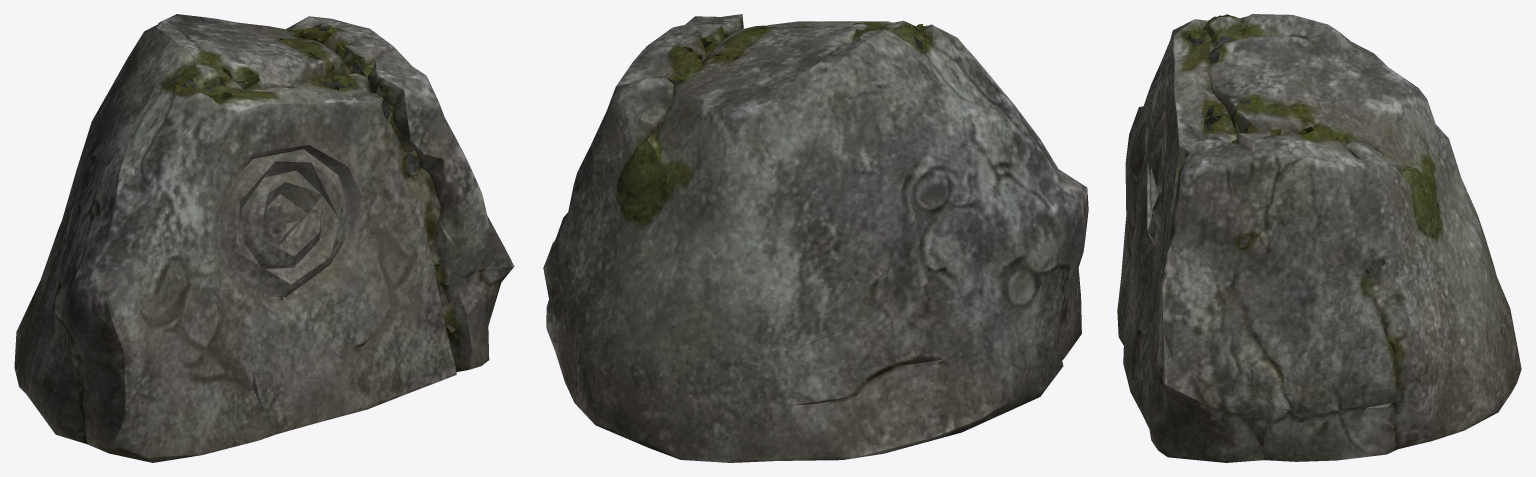
Rendered from stone-b.phone.glb.
3 renders of one model, left to right at view 1: azimuth 30°, elevation 25°; view 2: azimuth 150°, elevation 25°; view 3: azimuth 270°, elevation 25°, orthographic. The views are drawn at different scales.
Visible parts, largest first — view 1: stone-b-phone; view 2: stone-b-phone; view 3: stone-b-phone.
Part boxes in pixels (x1,y1,x2,y2): stone-b-phone: (14,14,514,462); stone-b-phone: (543,14,1088,462); stone-b-phone: (1117,14,1521,462).
Bounding box in the file's own units: 2.65 × 1.99 × 2.22.
1 material, 1 textured.
